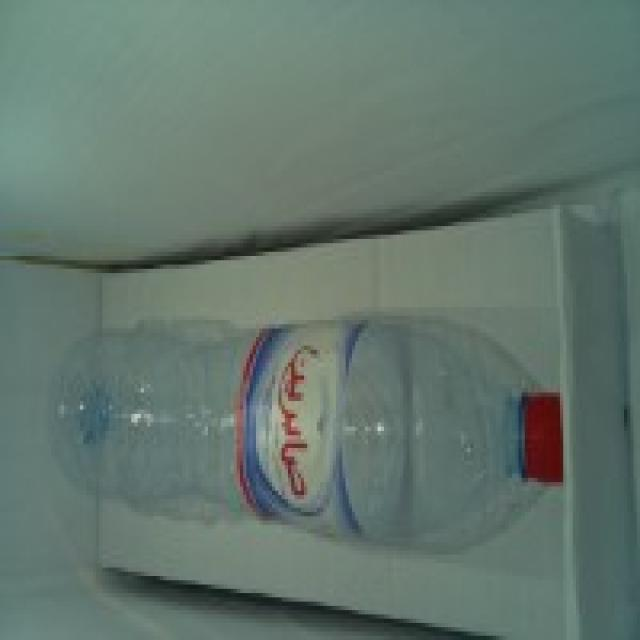Anorganik: (48, 316, 576, 525)
